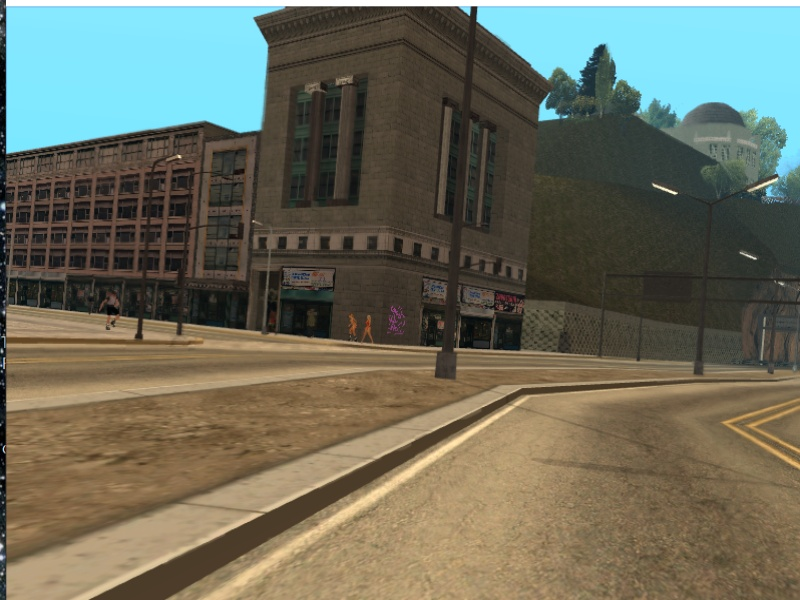person: (98, 286, 122, 333), (343, 312, 360, 341), (363, 312, 378, 344)
pole: (432, 15, 479, 380), (689, 196, 711, 378), (140, 166, 163, 339), (180, 228, 197, 336), (261, 230, 276, 335), (764, 288, 781, 376), (594, 275, 611, 359), (632, 298, 645, 362)
